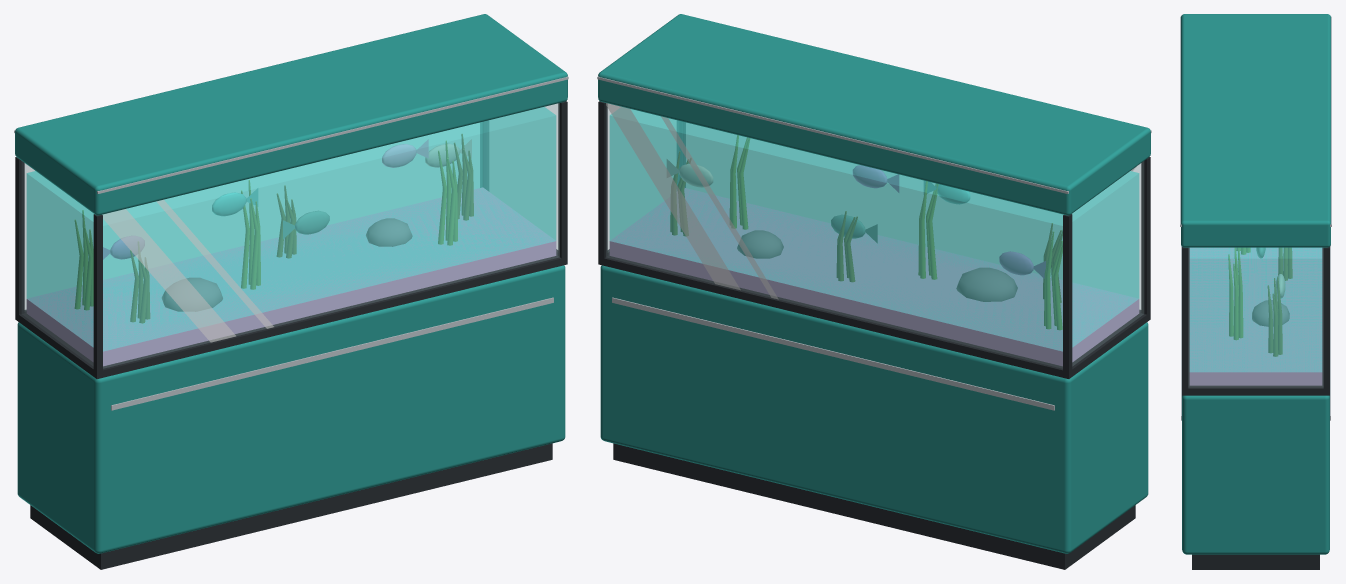
The model's file is SM_Aquarium.glb.
3 views of the same model, side by side, from view 1: azimuth 30°, elevation 25°; view 2: azimuth 150°, elevation 25°; view 3: azimuth 270°, elevation 25° (orthographic). The views are drawn at different scales.
Visible parts, largest first — view 1: SM_Aquarium, Glass, Water, Fish_4, Fish_3, Fish_2; view 2: SM_Aquarium, Glass, Water, Fish_1, Fish_5, Fish_6; view 3: SM_Aquarium, Glass, Water.
Part boxes in pixels (bbox=[...]): SM_Aquarium: bbox=[14, 14, 568, 569]; Glass: bbox=[22, 103, 559, 368]; Water: bbox=[26, 107, 556, 351]; Fish_4: bbox=[382, 139, 428, 167]; Fish_3: bbox=[283, 211, 329, 238]; Fish_2: bbox=[212, 188, 257, 215]; SM_Aquarium: bbox=[597, 14, 1151, 569]; Glass: bbox=[606, 103, 1143, 368]; Water: bbox=[609, 107, 1139, 351]; Fish_1: bbox=[999, 251, 1045, 278]; Fish_5: bbox=[667, 159, 712, 187]; Fish_6: bbox=[853, 165, 898, 192]; SM_Aquarium: bbox=[1180, 14, 1331, 569]; Glass: bbox=[1188, 248, 1323, 387]; Water: bbox=[1189, 247, 1322, 372].
Size of the model in its own units: 2.01 by 1.58 by 0.616.
Materials: 5 (5 with a texture image).
